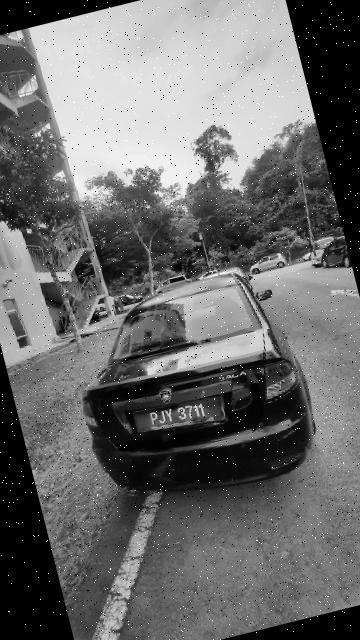License_Plate: (130, 385, 232, 448)
car: (53, 256, 333, 524)
